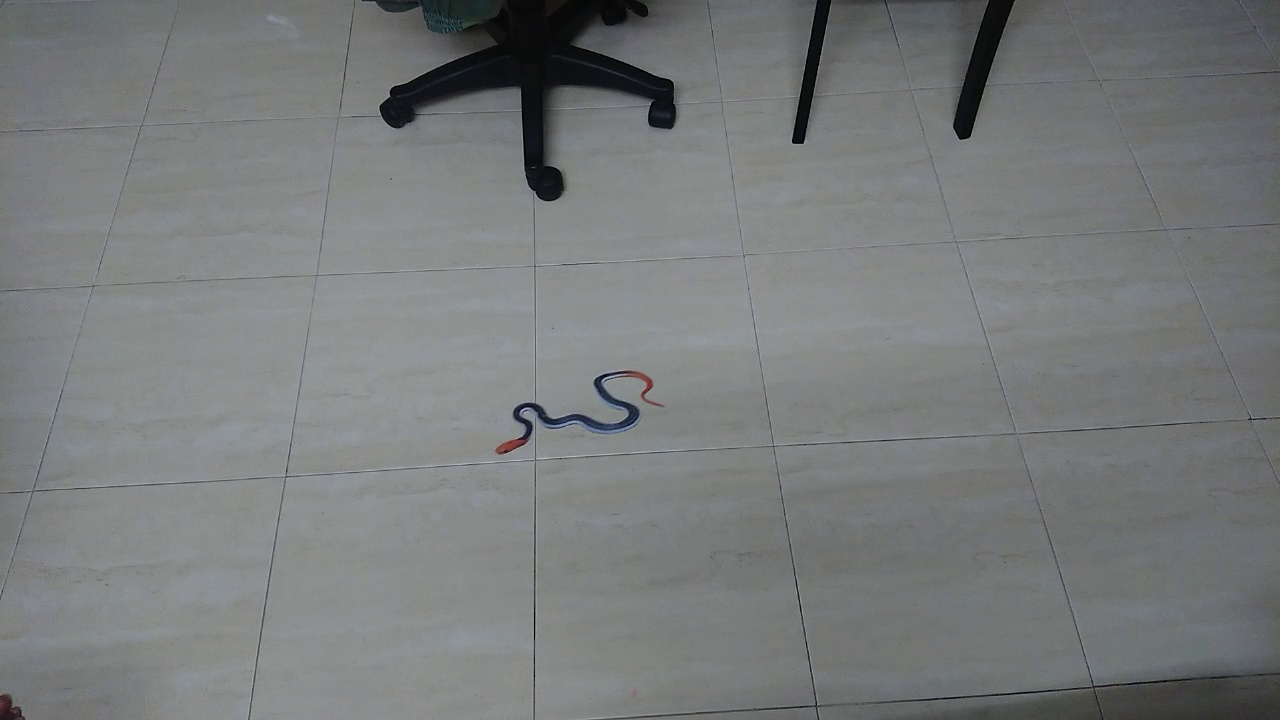snake: (489, 355, 679, 468)
